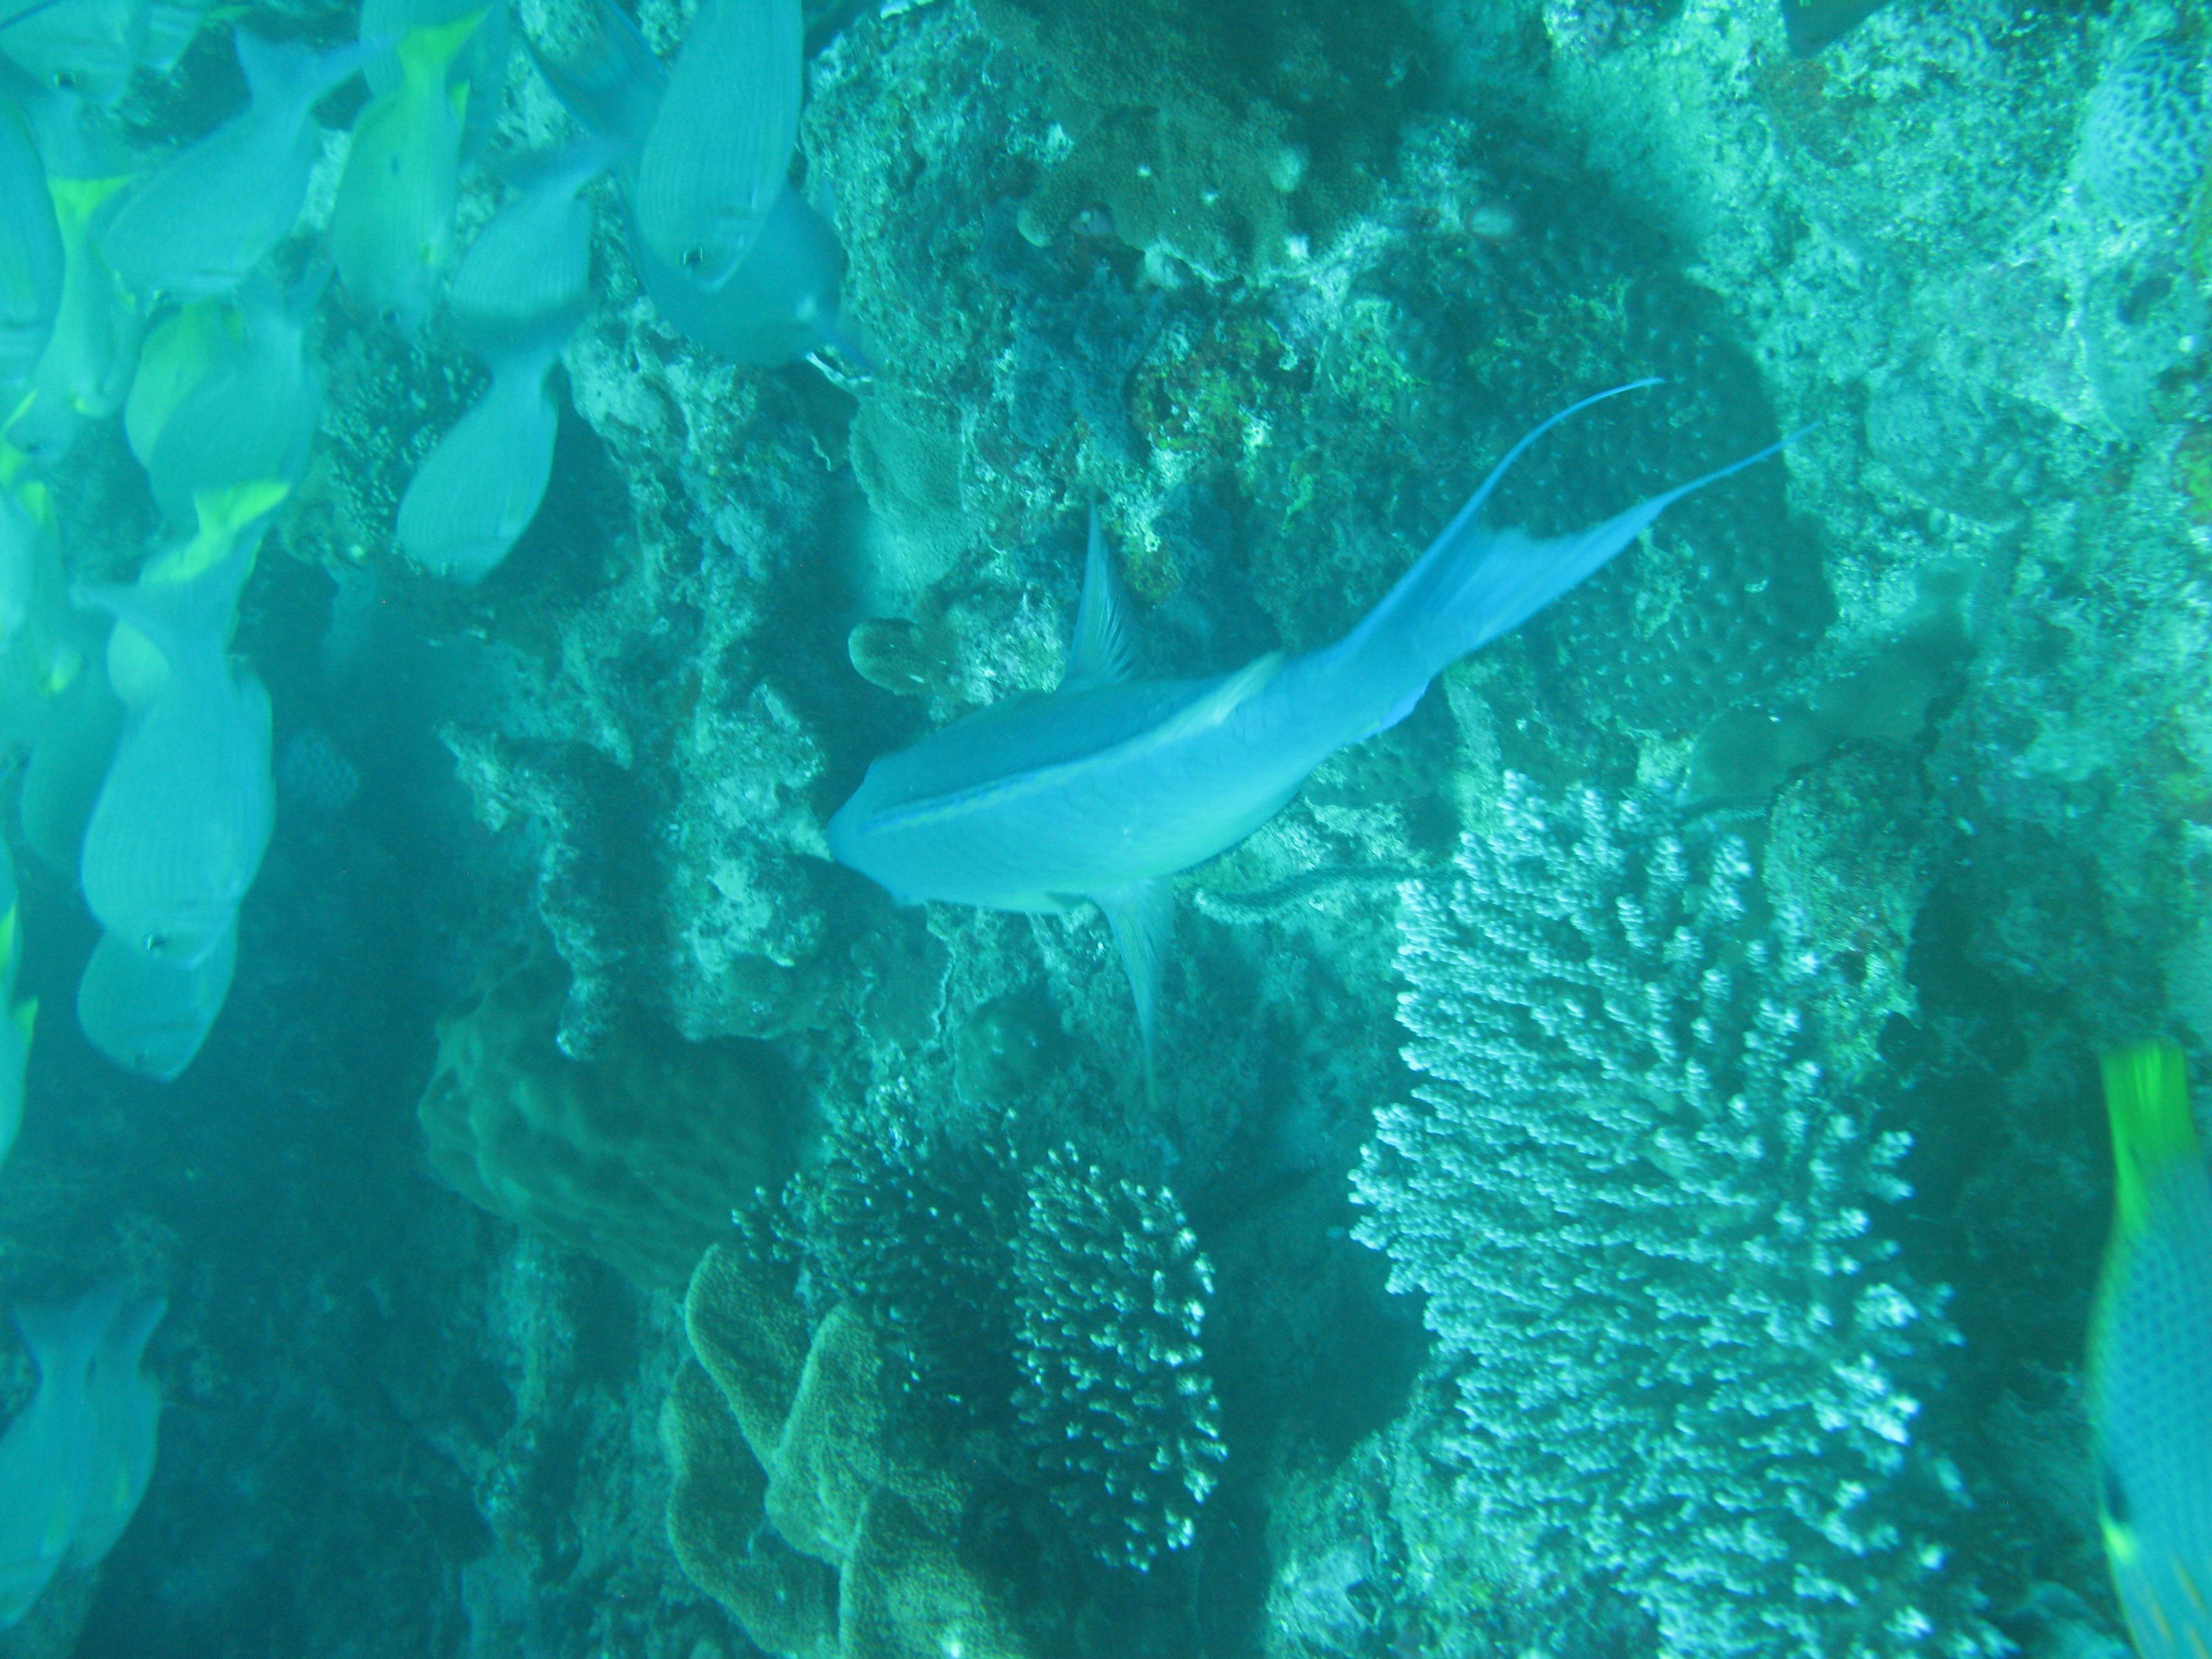Scarus rubroviolaceus: (712, 556, 1737, 1453)
